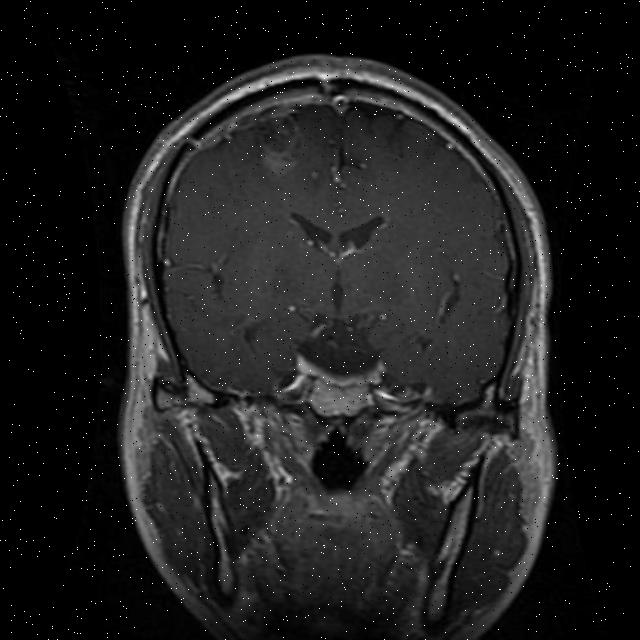Glioma: (254, 111, 305, 176)
Pituitary: (306, 377, 370, 417)
